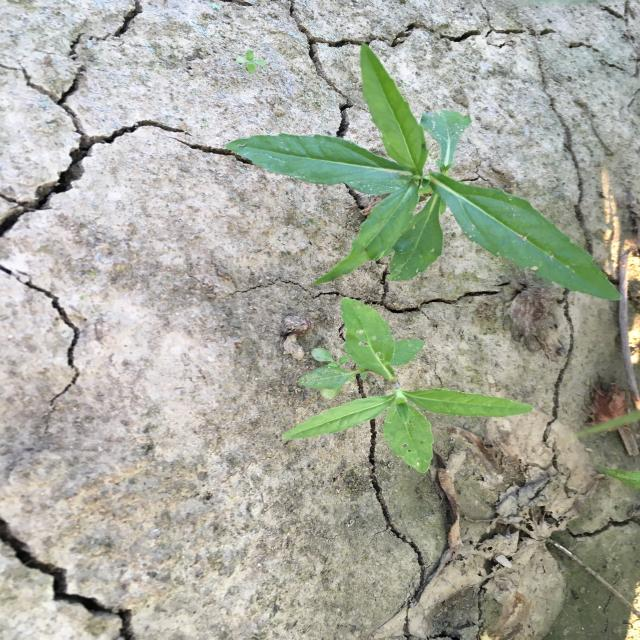Eclipta: (224, 42, 624, 303), (280, 295, 534, 474)
